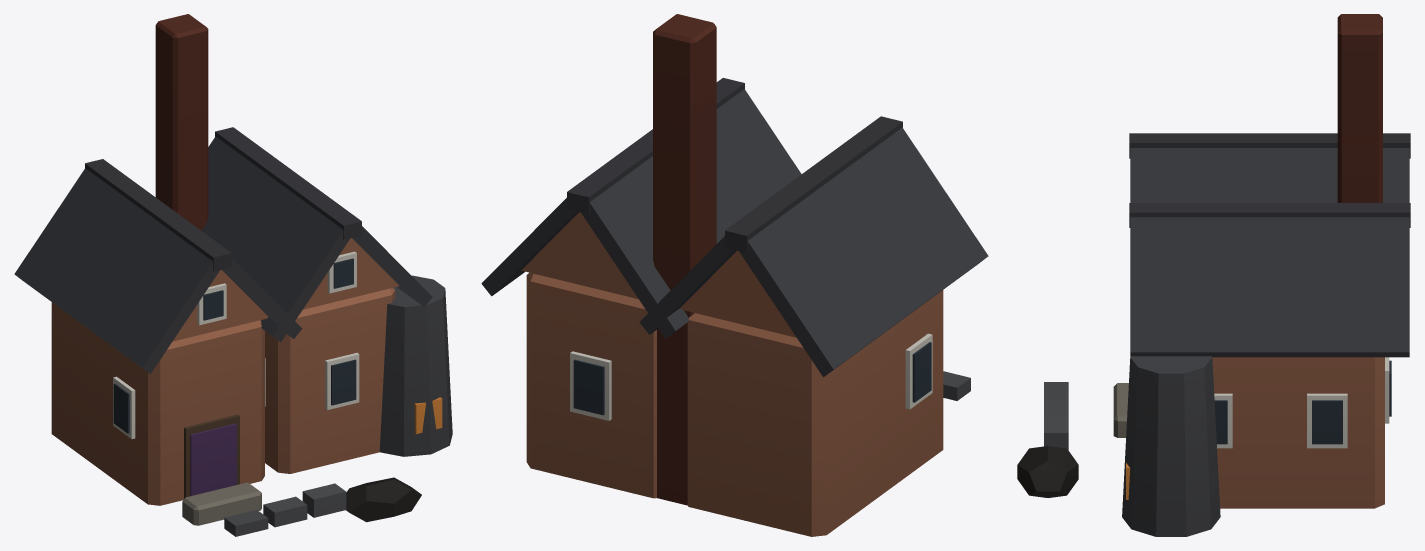
Rendered from foundry.glb.
3 renders of one model, left to right at view 1: azimuth 30°, elevation 25°; view 2: azimuth 150°, elevation 25°; view 3: azimuth 270°, elevation 25°, orthographic. The views are drawn at different scales.
Parts seen in each view (by area): view 1: foundry_model; view 2: foundry_model; view 3: foundry_model.
Boxes of the visible parts, <box> form: foundry_model: <box>14,14,452,536</box>; foundry_model: <box>481,14,988,536</box>; foundry_model: <box>1017,14,1410,536</box>.
Bounding box in the file's own units: 0.9209 × 1.1 × 0.8902.
